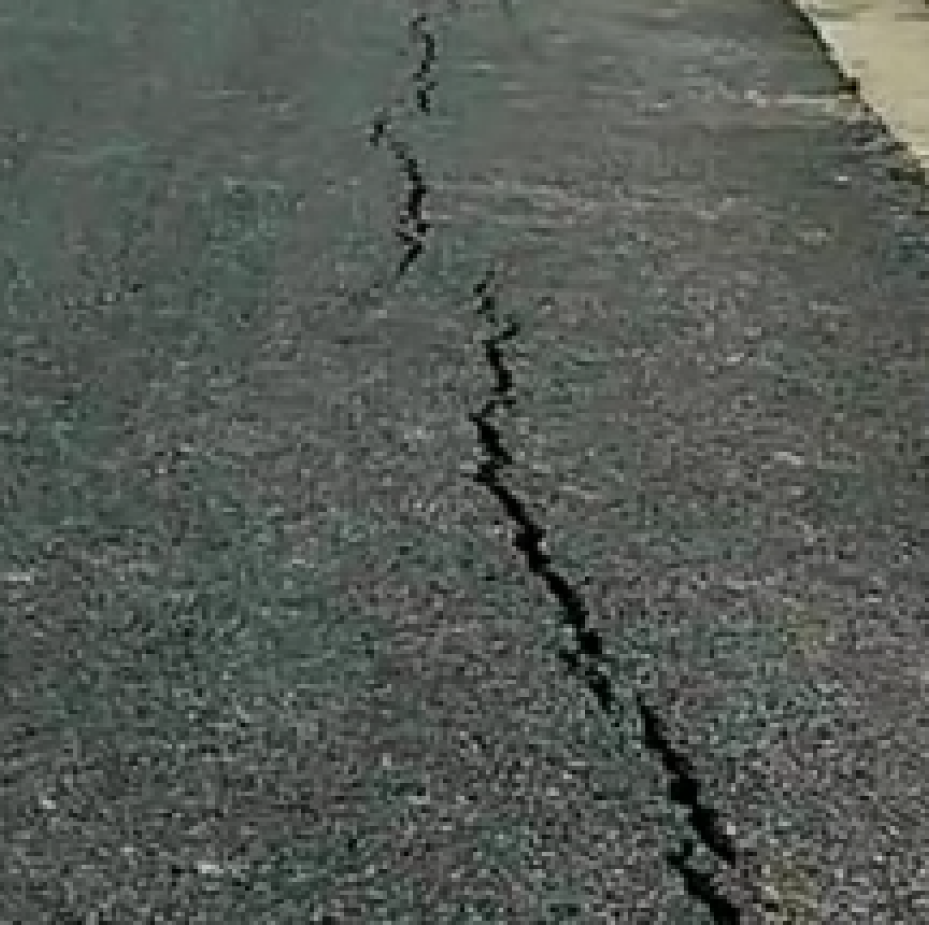Retak Memanjang: (438, 273, 769, 925), (358, 6, 448, 299)
